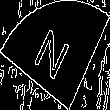N_SW: (32, 23, 78, 87)
